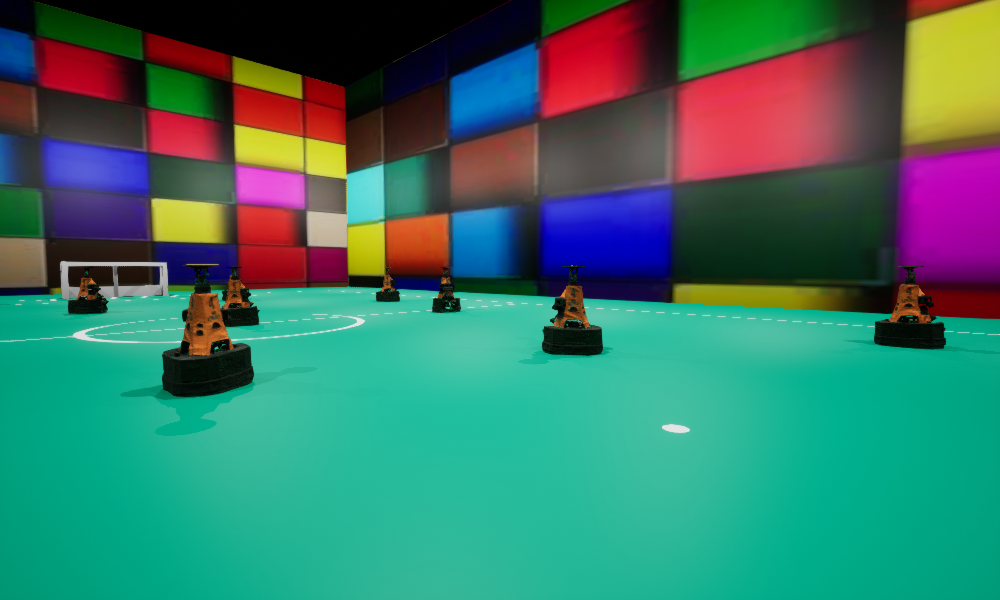0 orange robot TechUnited: (162, 264, 253, 396), (874, 266, 945, 348), (542, 265, 602, 355), (220, 266, 259, 326), (68, 267, 108, 313), (432, 267, 460, 312), (376, 267, 399, 301), (222, 270, 246, 300)
